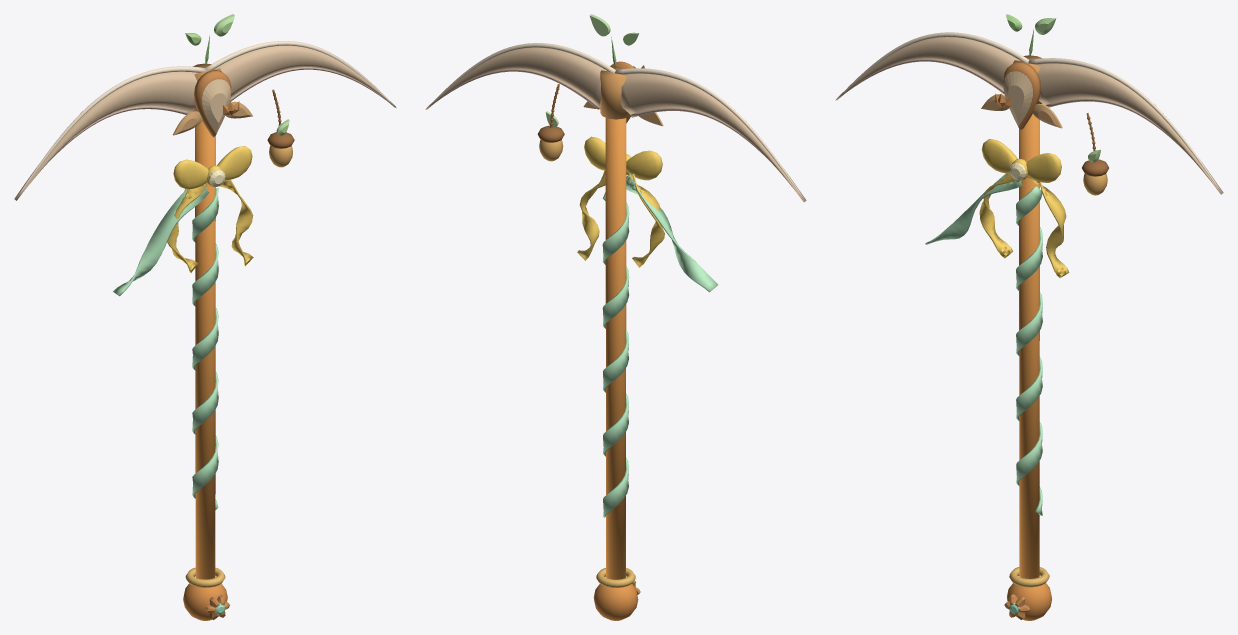
The model's file is WoodPickaxe.glb.
The picture shows the model from 3 angles, left to right: view 1: azimuth 30°, elevation 25°; view 2: azimuth 150°, elevation 25°; view 3: azimuth 330°, elevation 25°; orthographic projection.
Visible parts, largest first — view 1: WoodPickaxe_SmoothPlastic; view 2: WoodPickaxe_SmoothPlastic; view 3: WoodPickaxe_SmoothPlastic.
Boxes of the visible parts, x1,y1,x2,y2 form: WoodPickaxe_SmoothPlastic: (14, 14, 396, 620); WoodPickaxe_SmoothPlastic: (425, 14, 806, 620); WoodPickaxe_SmoothPlastic: (835, 14, 1223, 620).
Size of the model in its own units: 2.93 by 4.39 by 0.527.
Materials: 3 (3 with a texture image).
